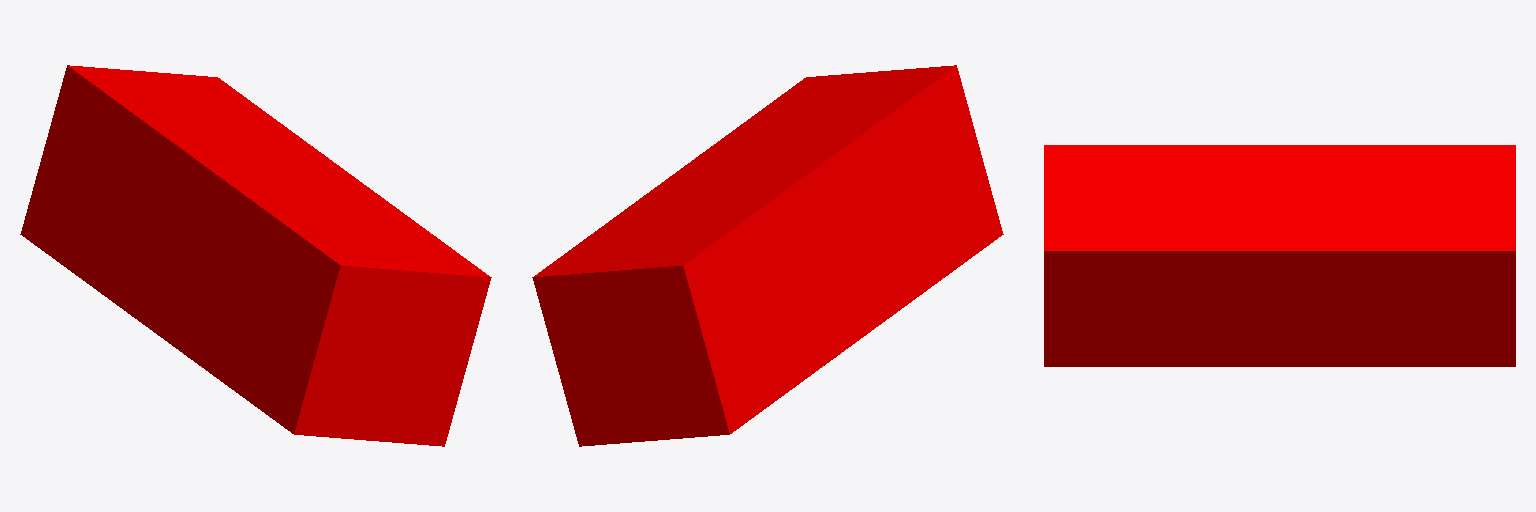
URDF robot description (boat):
<?xml version="1.0"?>
<robot name="boat">

  <link name="base_link">
    <inertial>
      <origin xyz="0 0 0.124229" rpy="0 0 0"/>
      <mass value="227"/>
      <inertia ixx="181.42" ixy="0" ixz="0" iyy="408.203" iyz="0" izz="495.037"/>
    </inertial>

    <visual>
      <origin xyz="0 0 0" rpy="0 0 0"/>
      <geometry>
        <mesh filename="package://boat_control_pkg/meshes/body.dae" scale="1 1 1"/>
      </geometry>
      </visual>
    <visual name="left_battery_visual">
       <origin xyz="0 -0.03 0" rpy="0 0 0"/> <geometry>
         <mesh filename="package://boat_control_pkg/meshes/battery.dae" scale="1 1 1"/>
       </geometry>
    </visual>
    <visual name="right_battery_visual">
       <origin xyz="0 -2.03 0" rpy="0 0 0"/> <geometry>
         <mesh filename="package://boat_control_pkg/meshes/battery.dae" scale="1 1 1"/>
       </geometry>
    </visual>
     <visual name='right_engine_link_visual'>
       <origin xyz="-2.37378 -1.02713 0.318237" rpy="0 0 0"/>
       <geometry>
         <mesh filename="package://boat_control_pkg/meshes/engine.dae" scale="1 1 1"/>
       </geometry>
     </visual>
     <visual name='left_engine_link_visual'>
       <origin xyz="-2.37378 1.02713 0.318237" rpy="0 0 0"/>
       <geometry>
         <mesh filename="package://boat_control_pkg/meshes/engine.dae" scale="1 1 1"/>
       </geometry>
     </visual>

    <collision>
       <origin xyz="0 0 1.25" rpy="0 0 0"/>
       <geometry>
         <box size="1.85 1 0.1"/>
       </geometry>
    </collision>
     <collision name='left_float_collision'>
       <origin xyz="-0.4 1.03 0.2" rpy="3.14159 1.57079 3.14159"/>
       <geometry>
         <cylinder length="4" radius="0.2"/>
       </geometry>
     </collision>
      <collision name='right_float_collision'>
       <origin xyz="-0.4 -1.03 0.2" rpy="3.14159 1.57079 3.14159"/>
       <geometry>
         <cylinder length="4" radius="0.2"/>
       </geometry>
     </collision>
     </link>

  <link name="camera_link">
    <inertial>
      <origin xyz="0 0 0" rpy="0 0 0"/> <mass value="0.1"/>
      <inertia ixx="0.01" ixy="0" ixz="0" iyy="0.01" iyz="0" izz="0.01"/>
    </inertial>
    <visual>
      <origin xyz="0 0 0" rpy="0 0 0"/>
      <geometry>
        <box size="0.05 0.15 0.05"/>
      </geometry>
      <material name="red">
         <color rgba="1 0 0 1"/>
      </material>
    </visual>
    <collision>
       <origin xyz="0 0 0" rpy="0 0 0"/>
      <geometry>
        <box size="0.05 0.1 0.05"/>
      </geometry>
    </collision>
  </link>

  <joint name="camera_joint" type="fixed">
    <parent link="base_link"/>
    <child link="camera_link"/>
    <origin xyz="1.1 0 1.3" rpy="0 0.3 0"/>
  </joint>

  <link name='imu_link'>
     <inertial>
       <origin xyz="0 0 0" rpy="0 0 0"/>
       <mass value="0.015"/>
       <inertia ixx="1e-05" ixy="0" ixz="0" iyy="1e-05" iyz="0" izz="1e-05"/>
     </inertial>
     </link>

   <joint name='imu_joint' type='fixed'>
     <parent link="base_link"/>
     <child link="imu_link"/>
     <origin xyz="0 0 0" rpy="0 0 0"/>
   </joint>

  <link name="gps_link">
     <inertial>
        <mass value="0.01"/>
        <inertia ixx="0.001" ixy="0" ixz="0" iyy="0.001" iyz="0" izz="0.001"/>
     </inertial>
  </link>

  <joint name='gps_joint' type='fixed'>
    <parent link="base_link"/>
    <child link="gps_link"/>
    <origin xyz="0 0 0.12" rpy="0 0 0"/>
  </joint>

  <link name='left_propeller_link'>
     <inertial>
       <origin xyz="0 0 0" rpy="0 0 0"/>
       <mass value="0.5"/>
       <inertia ixx="0.008545" ixy="0" ixz="0" iyy="0.008545" iyz="0" izz="0.0144"/>
     </inertial>
     <visual>
       <origin xyz="0 0 0" rpy="0 -1.57079 0"/>
       <geometry>
         <mesh filename="package://boat_control_pkg/meshes/propeller.dae" scale="1 1 1"/>
       </geometry>
     </visual>
     <collision>
        <origin xyz="-0.08 0 0" rpy="3.14159 0.0 3.14159"/>
       <geometry>
         <cylinder length="0.18" radius="0.24"/>
       </geometry>
     </collision>
   </link>

   <link name='right_propeller_link'>
     <inertial>
       <origin xyz="0 0 0" rpy="0 0 0"/>
       <mass value="0.5"/>
       <inertia ixx="0.008545" ixy="0" ixz="0" iyy="0.008545" iyz="0" izz="0.0144"/>
     </inertial>
     <visual>
       <origin xyz="0 0 0" rpy="0 -1.57079 0"/>
       <geometry>
         <mesh filename="package://boat_control_pkg/meshes/propeller.dae" scale="1 1 1"/>
       </geometry>
     </visual>
      <collision>
         <origin xyz="-0.08 0 0" rpy="3.14159 0.0 3.14159"/>
       <geometry>
         <cylinder length="0.18" radius="0.24"/>
       </geometry>
     </collision>
   </link>

   <joint name='left_engine_propeller_joint' type='fixed'>
     <parent link="base_link"/>
     <child link="left_propeller_link"/>
     <origin xyz="-2.65193 1.02713 -0.191134" rpy="0 1.57079 0"/>
     </joint>

   <joint name='right_engine_propeller_joint' type='fixed'>
     <parent link="base_link"/>
     <child link="right_propeller_link"/>
     <origin xyz="-2.65193 -1.02713 -0.191134" rpy="0 1.57079 0"/>
      </joint>

</robot>

--- What the picture shows (computed from the rendered views, not written in the file) ---
The picture shows the robot from 3 angles, left to right: view 1: azimuth 30°, elevation 25°; view 2: azimuth 150°, elevation 25°; view 3: azimuth 270°, elevation 25°; orthographic projection.
Robot: boat — 6 links, 5 joints (5 fixed); root link base_link; default pose: every joint at zero.
Links seen in each view (by area): view 1: camera_link; view 2: camera_link; view 3: camera_link.
Link boxes in pixels (x1,y1,x2,y2): camera_link: (20,65,491,446); camera_link: (532,65,1003,446); camera_link: (1044,145,1515,366).
Bounding box of the posed robot: 0.0625 × 0.15 × 0.0625 m (x, y, z).
0 mesh visuals loaded from 4 distinct referenced files (none loaded); not drawn: 7 (reference not matched to a file when rendering).